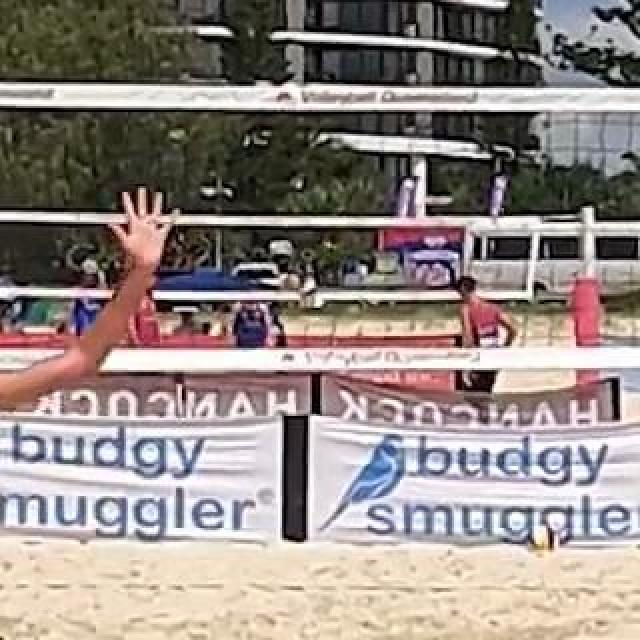volleyball: (525, 523, 559, 555)
